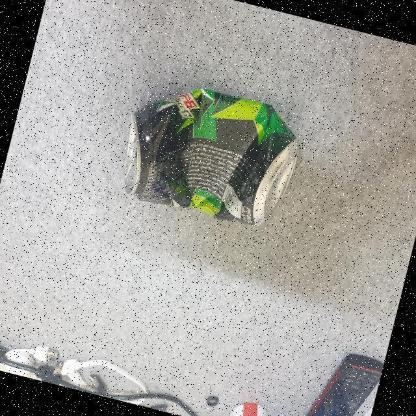Can: (116, 74, 312, 236)
